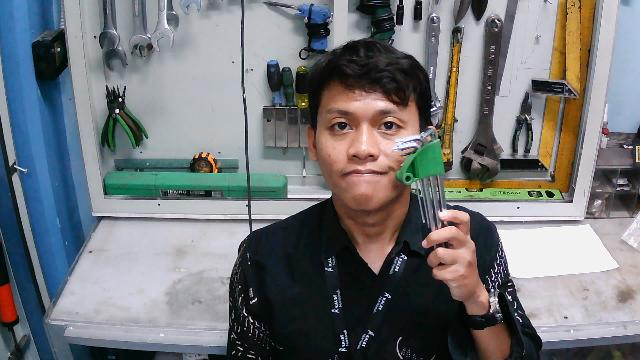kunci_l_bintang: (393, 128, 463, 265)
